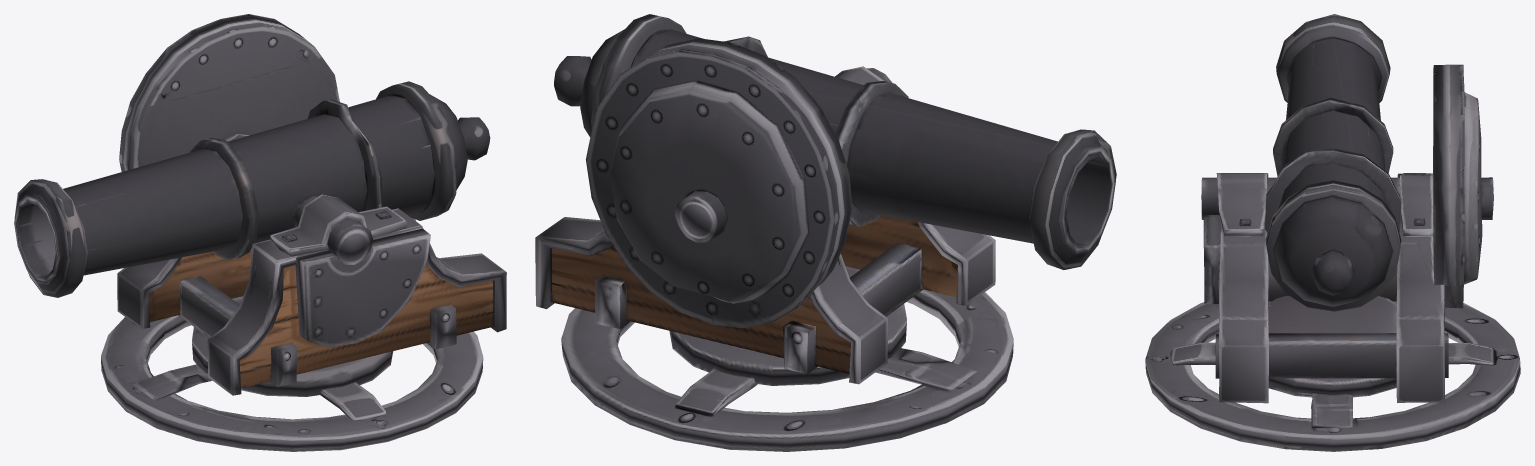
Rendered from meshy-v1-left-1500.glb.
3 renders of one model, left to right at view 1: azimuth 30°, elevation 25°; view 2: azimuth 150°, elevation 25°; view 3: azimuth 270°, elevation 25°, orthographic. The views are drawn at different scales.
Bounding box in the file's own units: 1 × 0.651 × 0.7455.
Materials: 1 (1 with a texture image).
